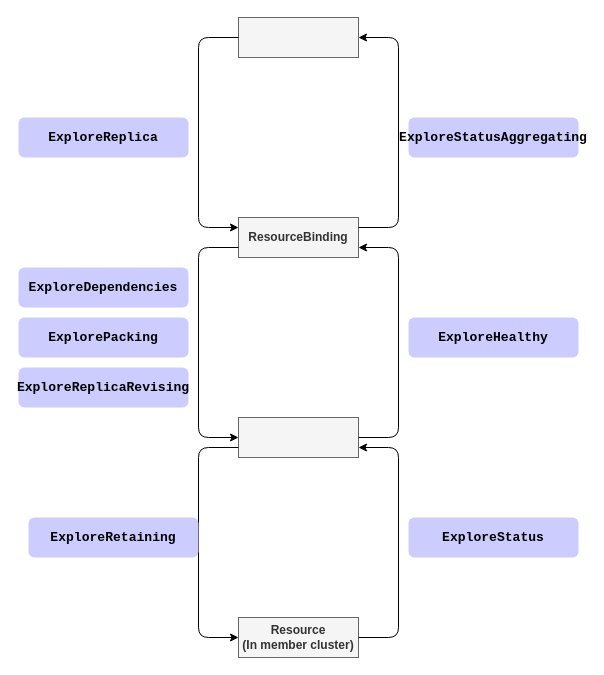
The diagram is 604 pixels wide and 675 high, and some of its shapes have lost their labels. The shapes that lost their labels are listed below. From the top down, each one's centre as x and y in pixels, then its label:
the point at 298,37: ResourceTemplate
the point at 298,437: Work
